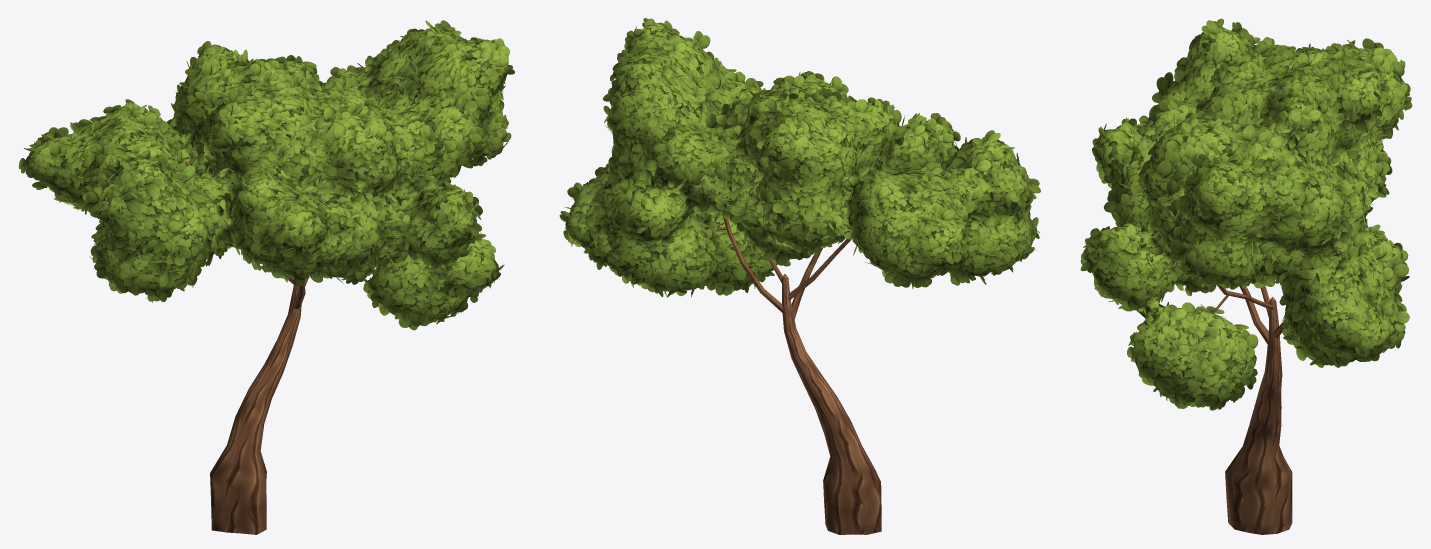
The model's file is acacia_v2.glb.
3 renders of one model, left to right at view 1: azimuth 30°, elevation 25°; view 2: azimuth 150°, elevation 25°; view 3: azimuth 270°, elevation 25°, orthographic. The views are drawn at different scales.
Visible parts, largest first — view 1: acacia_v2_leaves_LOD0, acacia_v2_volume_LOD0, acacia_v2_trunk_LOD0; view 2: acacia_v2_leaves_LOD0, acacia_v2_volume_LOD0, acacia_v2_trunk_LOD0; view 3: acacia_v2_leaves_LOD0, acacia_v2_volume_LOD0, acacia_v2_trunk_LOD0.
Part boxes in pixels (x1,y1,x2,y2): acacia_v2_leaves_LOD0: (18,20,514,330); acacia_v2_volume_LOD0: (24,29,508,319); acacia_v2_trunk_LOD0: (185,161,309,534); acacia_v2_leaves_LOD0: (559,18,1040,297); acacia_v2_volume_LOD0: (565,25,1032,289); acacia_v2_trunk_LOD0: (706,214,881,534); acacia_v2_leaves_LOD0: (1080,18,1412,410); acacia_v2_volume_LOD0: (1086,28,1406,402); acacia_v2_trunk_LOD0: (1172,265,1292,534).
Size of what is drawn, in the model's own units: 9.1 by 9.03 by 5.85.
3 materials, 3 textured.
